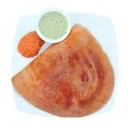dosa: (8, 25, 119, 117)
